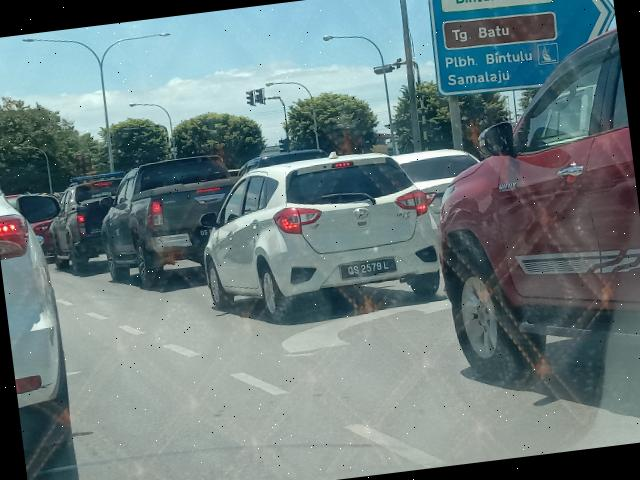License_Plate: (340, 259, 398, 282)
car: (411, 27, 640, 402), (184, 145, 454, 335), (93, 152, 254, 295), (40, 174, 142, 272)
